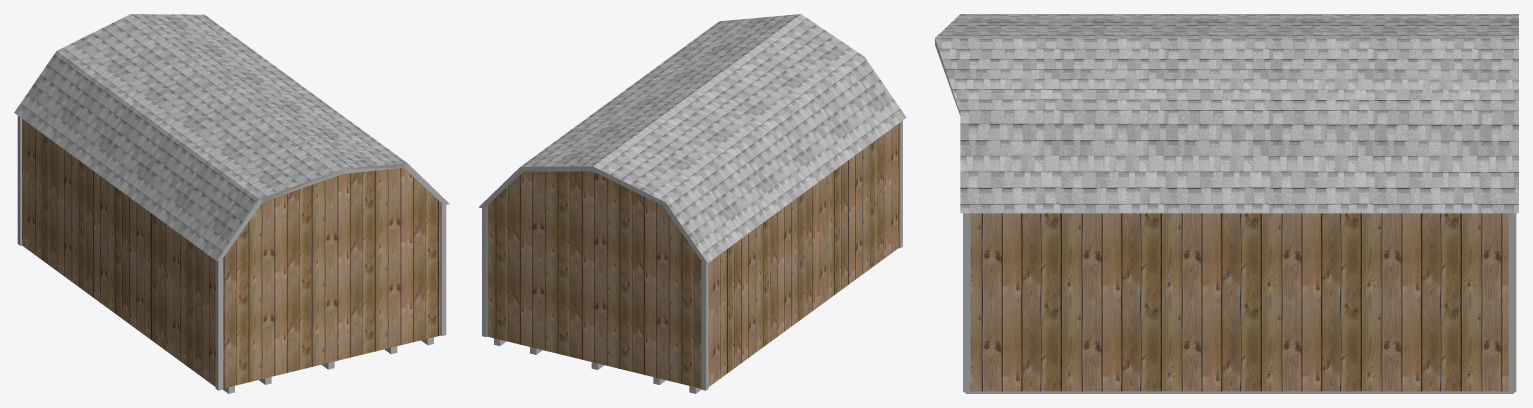
File: High Wall Barns_12x18.obj
3 views of the same model, side by side, from view 1: azimuth 30°, elevation 25°; view 2: azimuth 150°, elevation 25°; view 3: azimuth 270°, elevation 25° (orthographic). The views are drawn at different scales.
Parts seen in each view (by area): view 1: Shed, Roof, Trim, Sides; view 2: Shed, Roof, Trim, Sides; view 3: Roof, Shed, Trim, Floor.
Part boxes in pixels (x1,y1,x2,y2): Shed: (22,119,442,388); Roof: (14,14,406,260); Trim: (17,116,446,390); Sides: (217,163,449,260); Shed: (487,123,898,388); Roof: (520,14,906,262); Trim: (482,120,902,390); Sides: (479,166,707,263); Roof: (935,14,1518,213); Shed: (970,213,1508,391); Trim: (963,213,1516,392); Floor: (965,391,1513,393).
Bounding box in the file's own units: 3.72 × 3.17 × 5.84.
